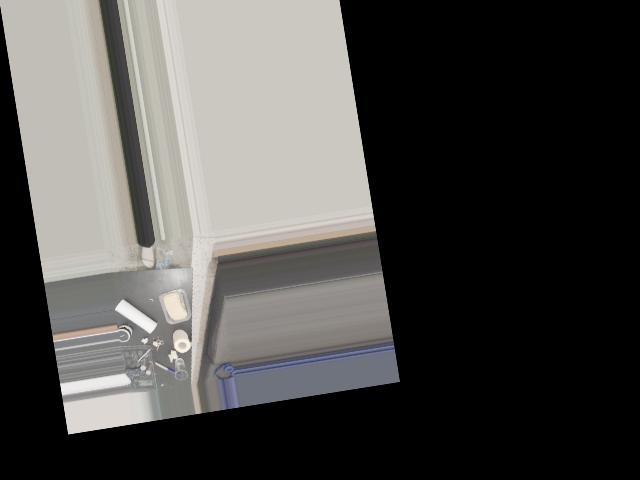cheese: (156, 284, 193, 326)
